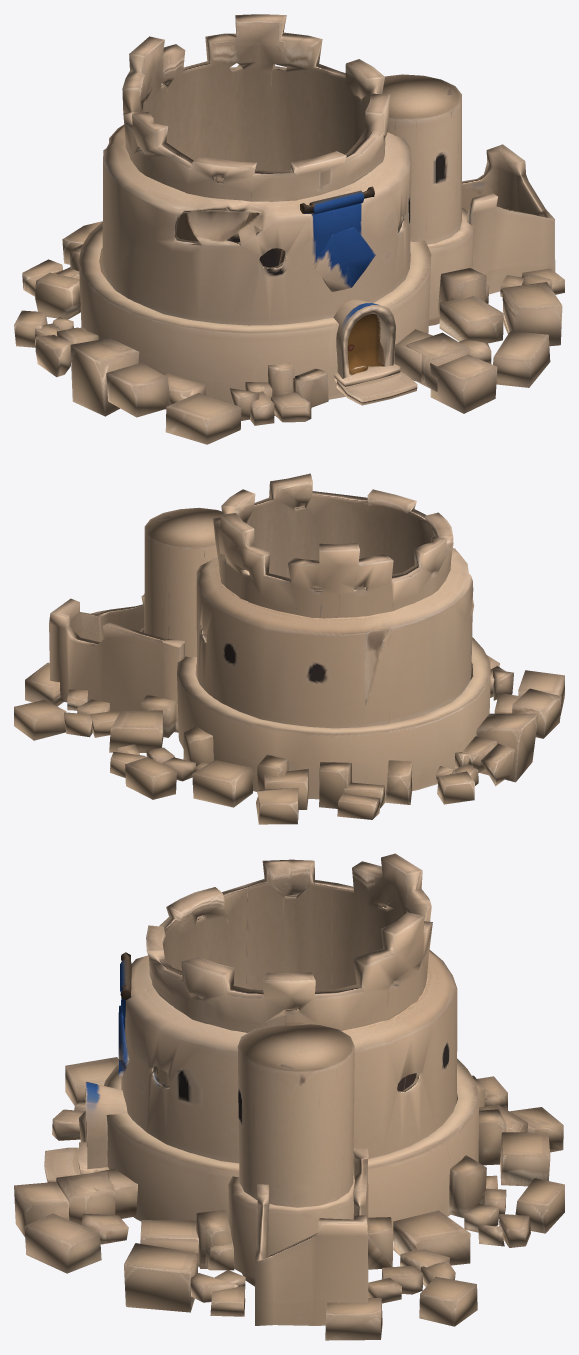
Rendered from meshy-c5-d3.glb.
3 renders of one model, top to bottom at view 1: azimuth 30°, elevation 25°; view 2: azimuth 150°, elevation 25°; view 3: azimuth 270°, elevation 25°, orthographic. The views are drawn at different scales.
Size of the model in its own units: 1 by 0.5226 by 0.8794.
1 material, 1 textured.
